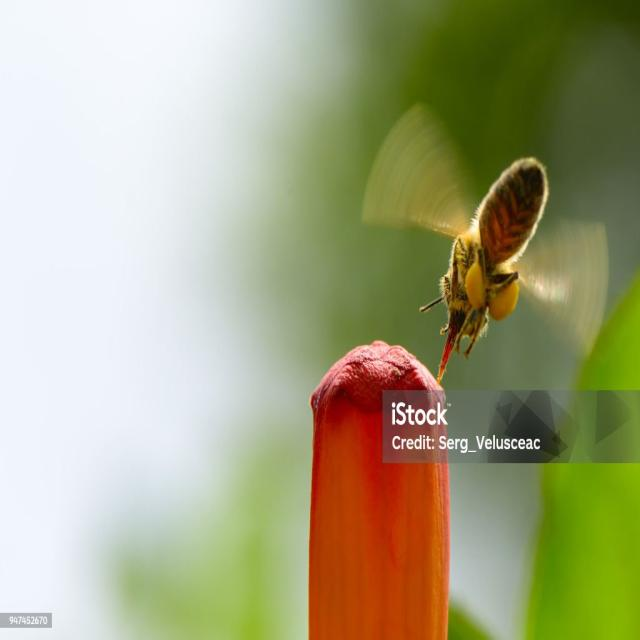bees: (358, 92, 612, 384)
